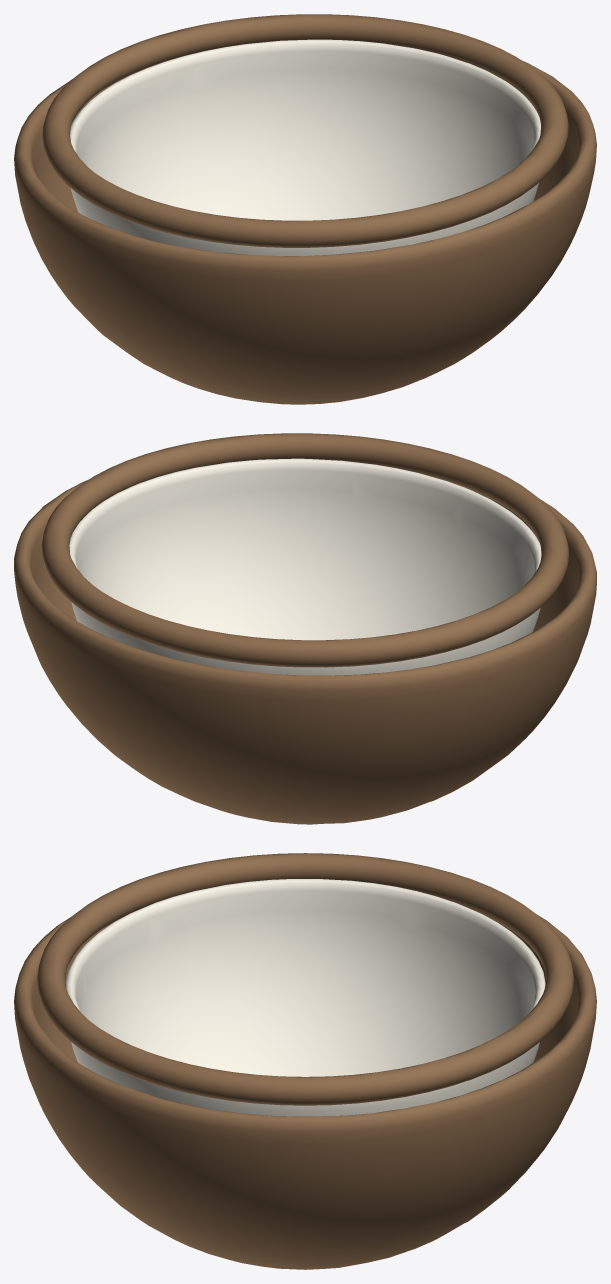
The model's file is coconut_shell.mobile.glb.
The picture shows the model from 3 angles, top to bottom: view 1: azimuth 30°, elevation 25°; view 2: azimuth 150°, elevation 25°; view 3: azimuth 270°, elevation 25°; orthographic projection. The views are drawn at different scales.
Parts seen in each view (by area): view 1: CoconutShell; view 2: CoconutShell; view 3: CoconutShell.
Boxes of the visible parts, box(x1,y1,x2,y2) form: CoconutShell: box(14, 14, 596, 404); CoconutShell: box(14, 433, 596, 824); CoconutShell: box(14, 853, 596, 1269).
Bounding box in the file's own units: 0.1381 × 0.0665 × 0.1295.
